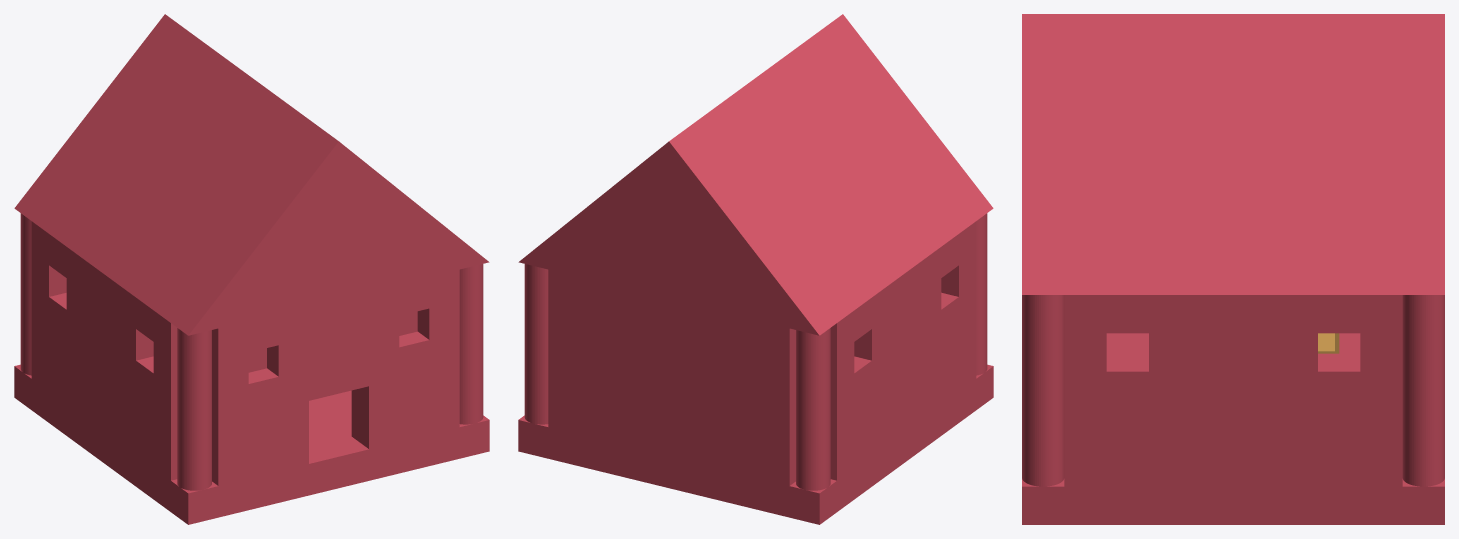
File: SmoothMaimu.glb
3 views of the same model, side by side, from view 1: azimuth 30°, elevation 25°; view 2: azimuth 150°, elevation 25°; view 3: azimuth 270°, elevation 25° (orthographic). The views are drawn at different scales.
Visible parts, largest first — view 1: Mesh_Mesh_head_geo.001_lambert2SG.001; view 2: Mesh_Mesh_head_geo.001_lambert2SG.001; view 3: Mesh_Mesh_head_geo.001_lambert2SG.001.
Boxes of the visible parts, x1=… form: Mesh_Mesh_head_geo.001_lambert2SG.001: x1=14, y1=14, x2=489, y2=524; Mesh_Mesh_head_geo.001_lambert2SG.001: x1=518, y1=14, x2=993, y2=524; Mesh_Mesh_head_geo.001_lambert2SG.001: x1=1022, y1=14, x2=1444, y2=524.
Size of the model in its own units: 30 by 33 by 30.
